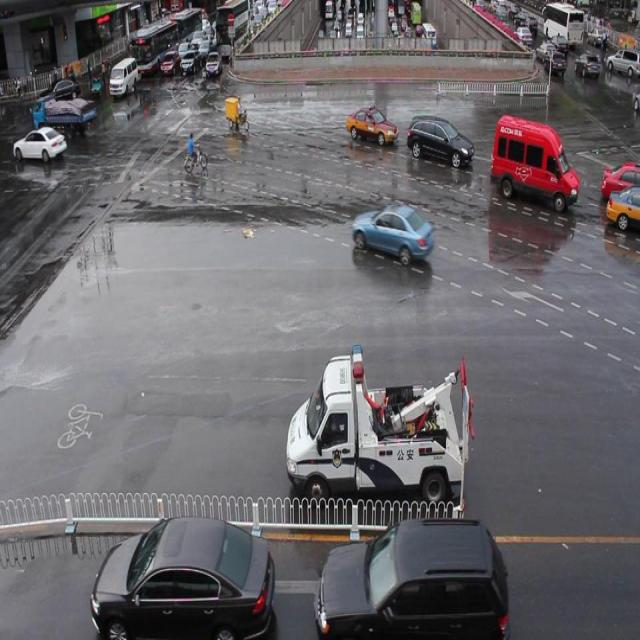bus: (287, 344, 475, 513)
car: (317, 516, 507, 640), (94, 516, 275, 640), (353, 205, 432, 262), (408, 116, 474, 170), (347, 105, 398, 145), (602, 159, 640, 202), (606, 186, 640, 231)
truck: (490, 113, 580, 213)
